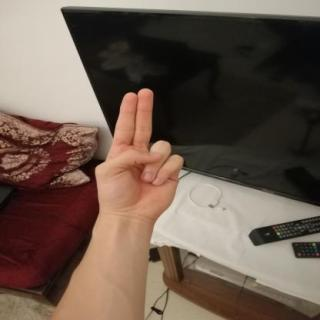TA: (82, 77, 191, 226)
